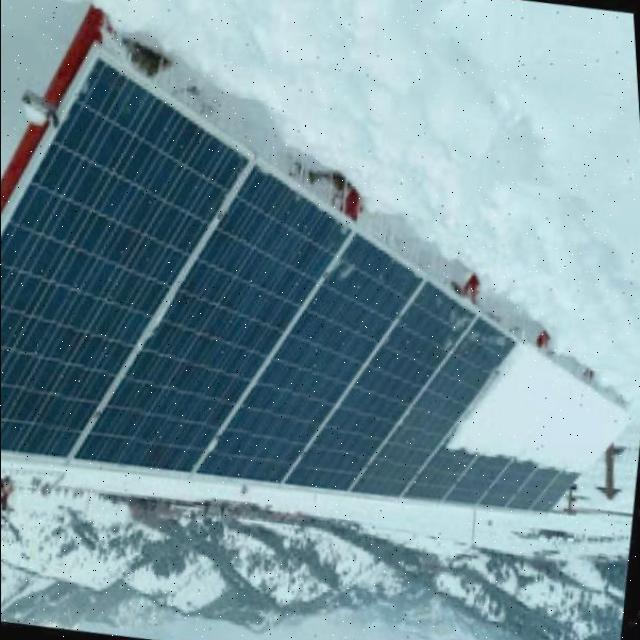Anomaly Solar Panel: (395, 323, 637, 573)
Normal Solar Panel: (0, 56, 262, 499), (74, 165, 360, 519), (191, 228, 434, 515), (287, 278, 482, 514), (353, 313, 520, 513)
Snow: (443, 335, 635, 528)
